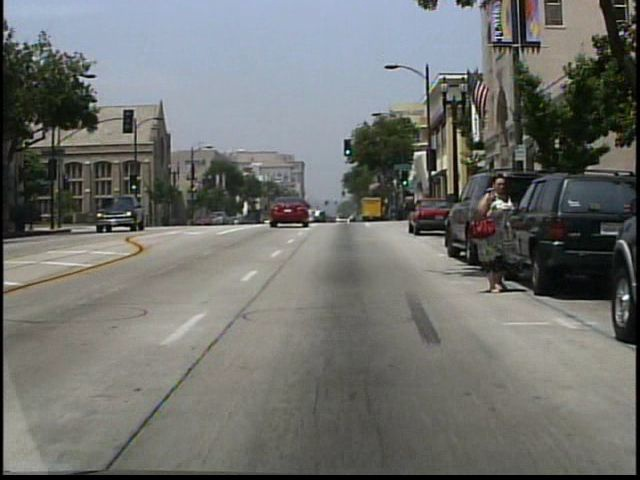person: (472, 173, 529, 296)
